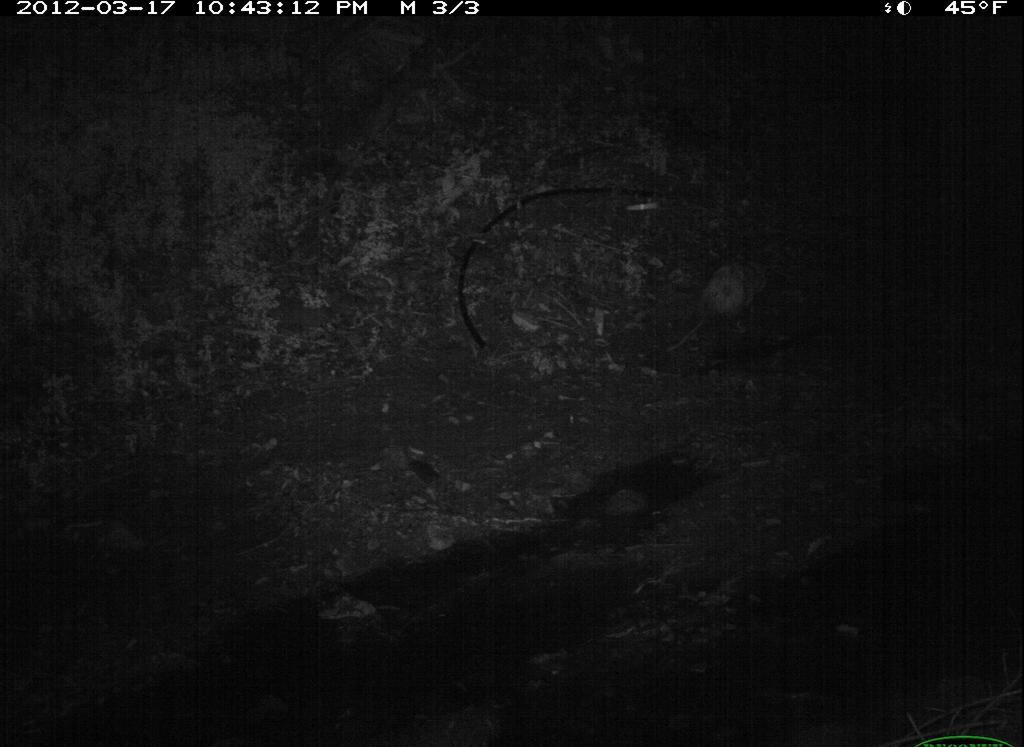opossum: (651, 250, 779, 369)
